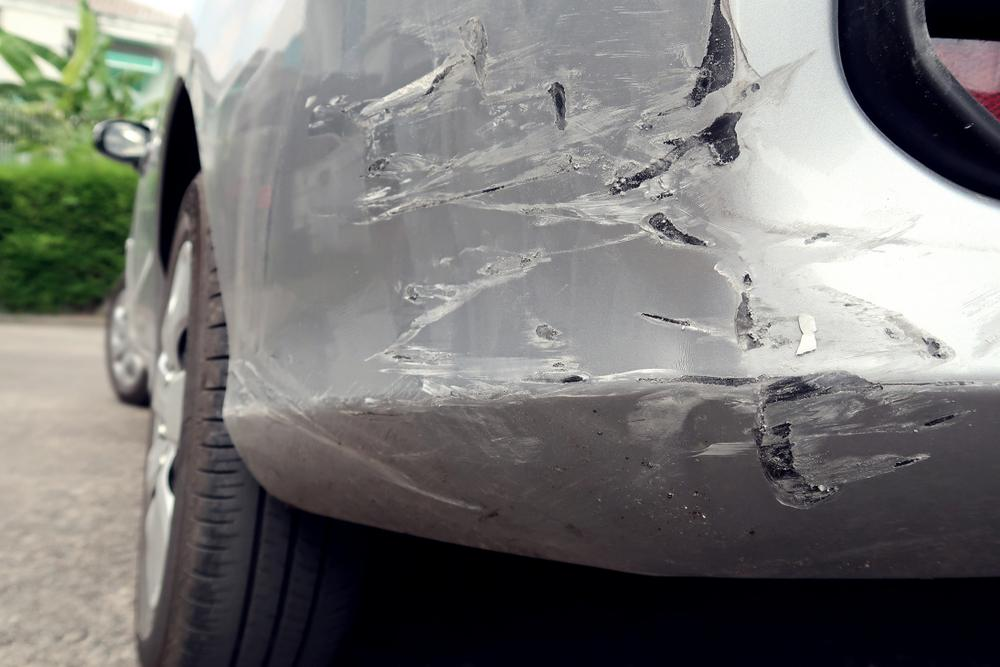scratch: (234, 0, 1000, 567)
